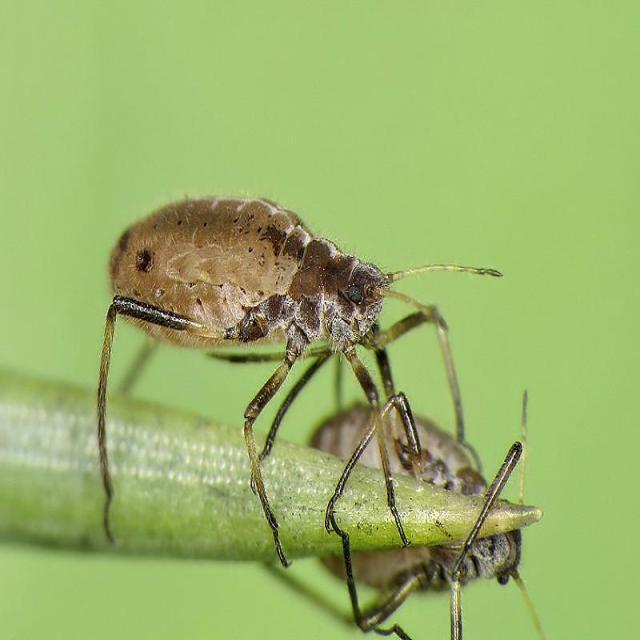aphid: (90, 157, 486, 517)
